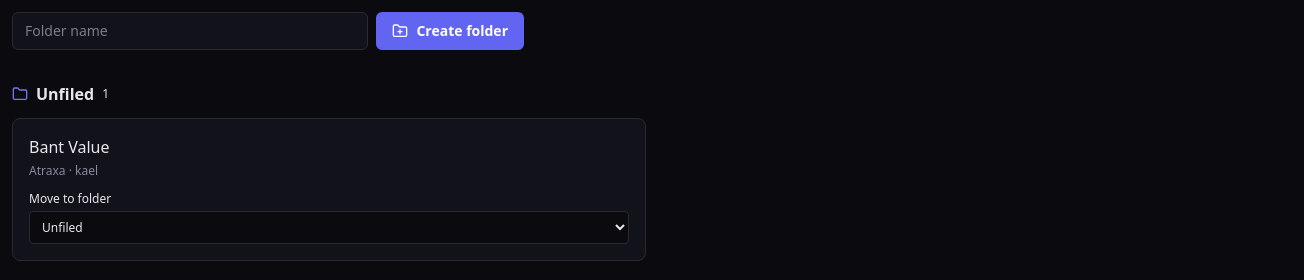
SavedDeckLibrary › moves a saved deck into a personal folder
The width and height of the screenshot is (1304, 280).
Select "Ideas" in the dropdown labelled "Move to folder" at x=329, y=228, box [29,211,629,244]
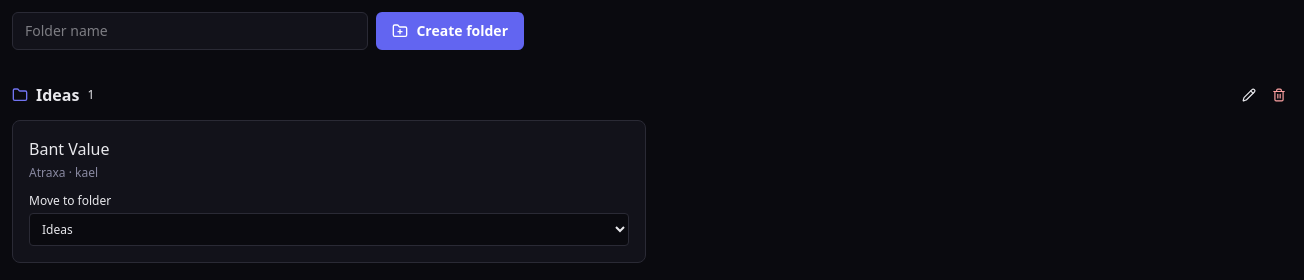
Expected: the heading "Ideas" is shown, [36,83,79,107]
